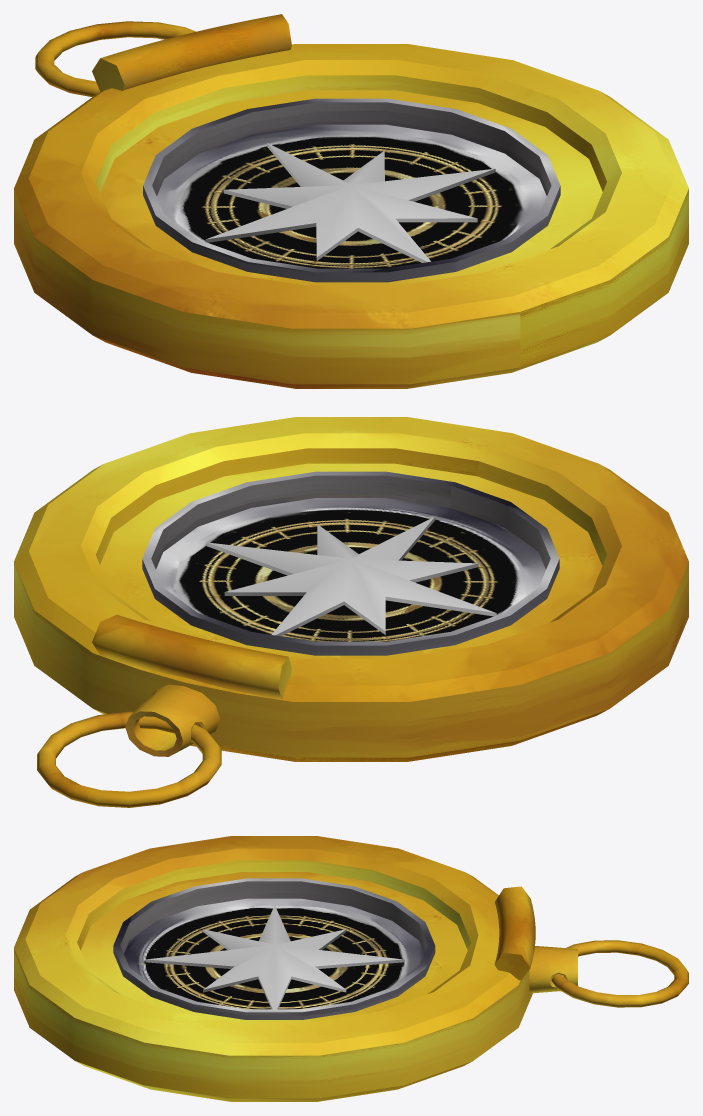
The model's file is compass_under.FBX.
3 renders of one model, top to bottom at view 1: azimuth 30°, elevation 25°; view 2: azimuth 150°, elevation 25°; view 3: azimuth 270°, elevation 25°, orthographic. The views are drawn at different scales.
Parts seen in each view (by area): view 1: Cylinder001, Cylinder004, Cylinder005, Torus001; view 2: Cylinder001, Cylinder004, Cylinder005, Torus001, Cylinder003; view 3: Cylinder001, Cylinder004, Torus001, Cylinder005, Cylinder003.
Boxes of the visible parts, left/top/right/bottom form: Cylinder001: left=14, top=44, right=688, bottom=388; Cylinder004: left=205, top=143, right=495, bottom=262; Cylinder005: left=92, top=14, right=291, bottom=91; Torus001: left=35, top=21, right=195, bottom=96; Cylinder001: left=14, top=417, right=688, bottom=761; Cylinder004: left=206, top=517, right=496, bottom=636; Cylinder005: left=92, top=614, right=291, bottom=699; Torus001: left=37, top=711, right=221, bottom=807; Cylinder003: left=125, top=684, right=220, bottom=756; Cylinder001: left=14, top=836, right=532, bottom=1101; Cylinder004: left=145, top=905, right=403, bottom=1009; Torus001: left=551, top=940, right=688, bottom=1007; Cylinder005: left=494, top=886, right=535, bottom=980; Cylinder003: left=529, top=946, right=577, bottom=993.
Size of the model in its own units: 39.07 by 7.08 by 51.47.
